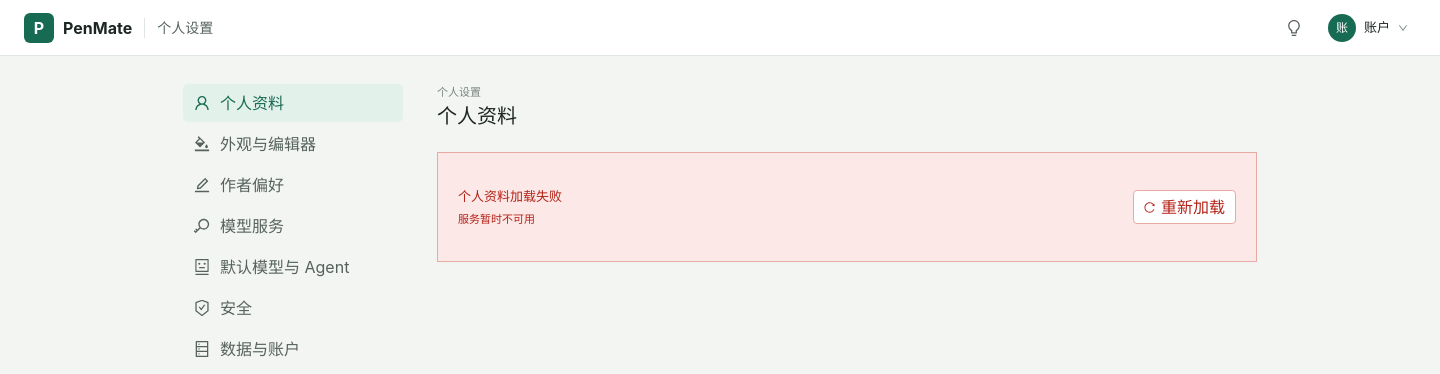
Profile settings architecture › keeps_profile_load_failures_in_place_and_retries_without_leaving_the_page
This screenshot has width=1440, height=374.
Step 1. Click the button "重新加载" → (1184,207), box x1=1133 y1=190 x2=1236 y2=224
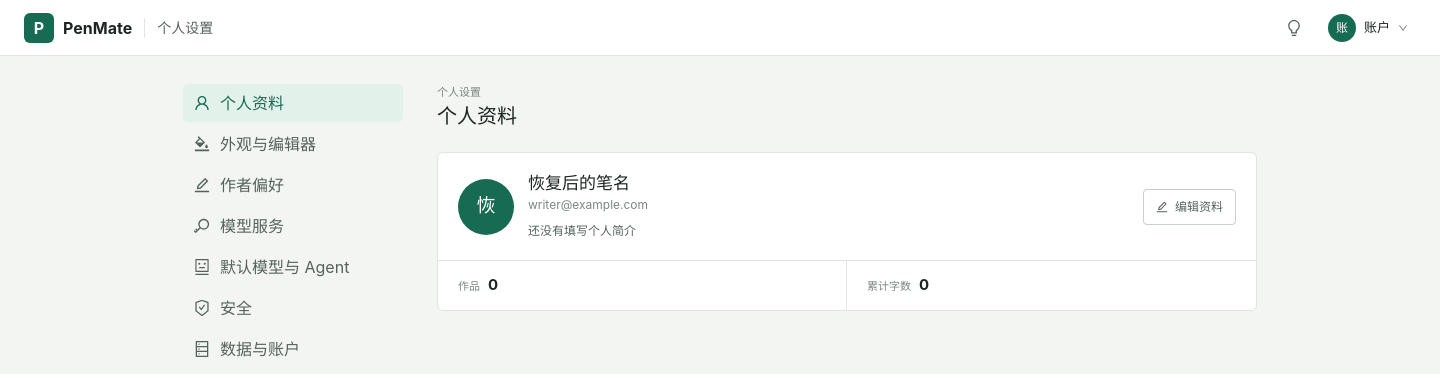
Expected: the element with test id "profile-hero-card" shows "恢复后的笔名", x1=528 y1=173 x2=630 y2=193
